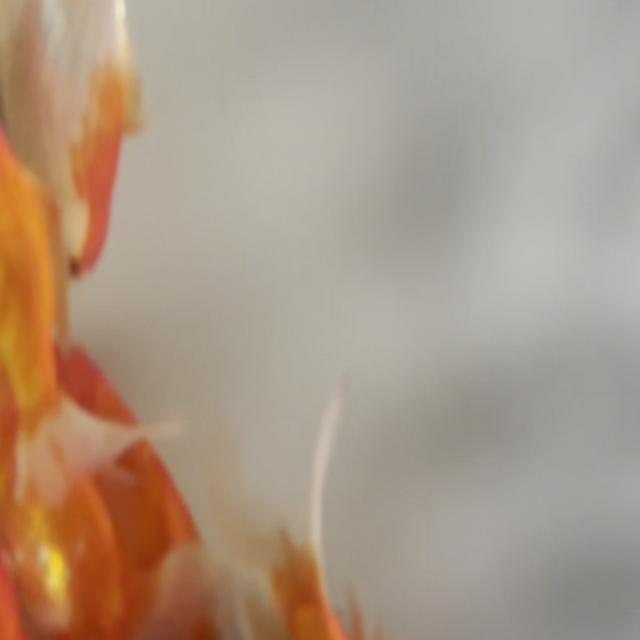fish: (0, 340, 143, 640), (0, 0, 142, 283), (0, 0, 79, 461), (253, 498, 440, 640)
